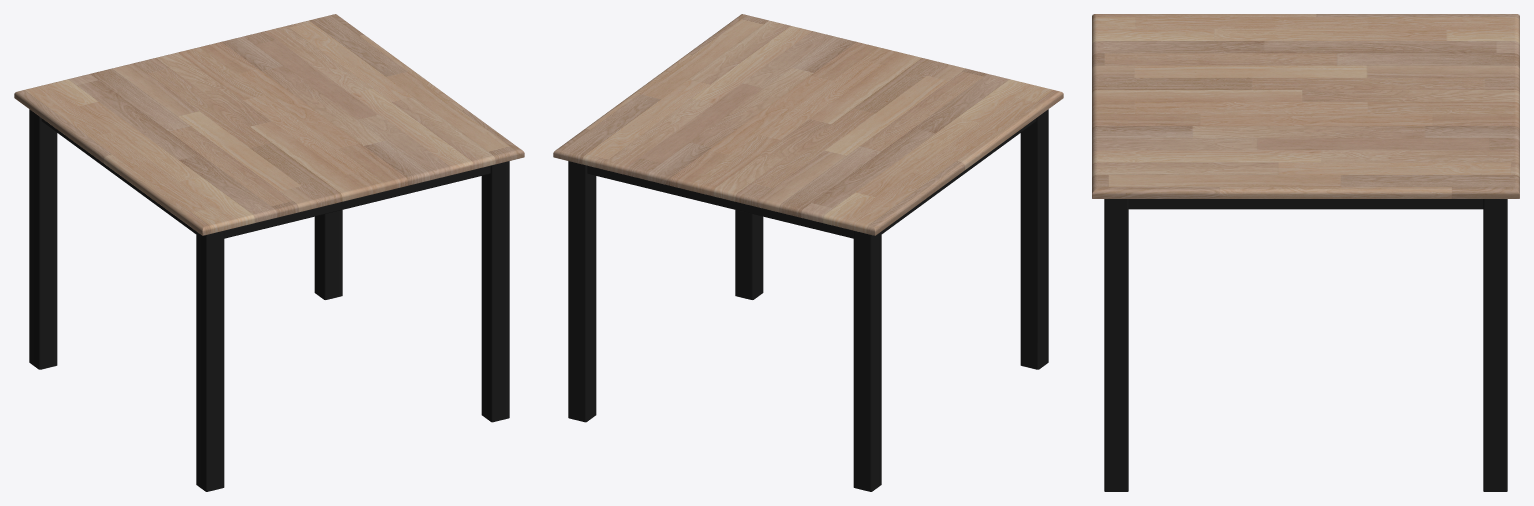
The model's file is tavoloScenografia.fbx.
3 views of the same model, side by side, from view 1: azimuth 30°, elevation 25°; view 2: azimuth 150°, elevation 25°; view 3: azimuth 270°, elevation 25° (orthographic). The views are drawn at different scales.
Parts seen in each view (by area): view 1: Table.001; view 2: Table.001; view 3: Table.001.
Part boxes in pixels (x1,y1,x2,y2): Table.001: [14, 14, 524, 491]; Table.001: [553, 14, 1063, 491]; Table.001: [1092, 14, 1519, 491].
Bounding box in the file's own units: 90.02 × 72 × 91.15.
